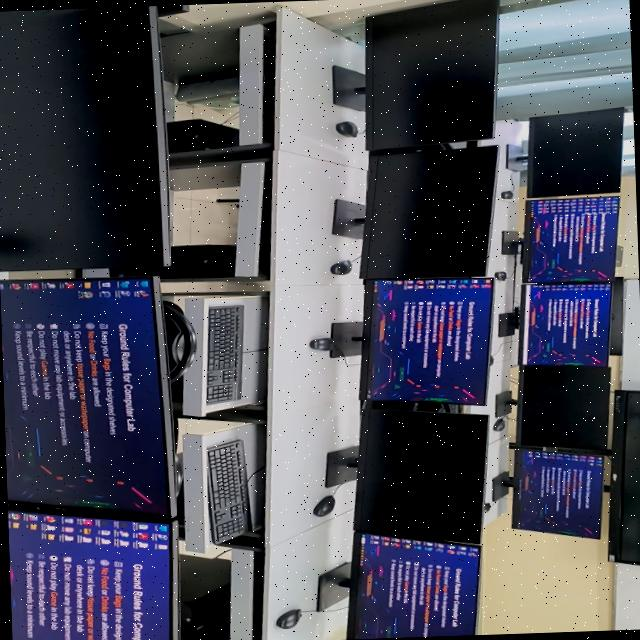Chair: (371, 400, 460, 412)
Cpu: (108, 244, 234, 278), (179, 584, 228, 634), (167, 119, 237, 152), (615, 245, 623, 266)
Digital board: (603, 389, 640, 565)
Keyboard: (206, 439, 249, 543), (205, 305, 243, 404)
Monitor: (0, 6, 168, 271), (0, 277, 174, 517), (331, 0, 497, 150), (325, 408, 486, 544), (332, 146, 496, 279), (7, 512, 174, 640), (330, 277, 493, 405), (317, 532, 480, 639), (504, 107, 623, 197), (501, 196, 620, 282), (491, 449, 604, 538), (495, 364, 609, 449), (498, 283, 610, 365), (609, 277, 625, 355), (156, 4, 188, 16)
Mouse: (275, 609, 300, 628), (312, 495, 334, 516), (335, 121, 357, 137), (308, 338, 334, 350), (329, 260, 351, 274), (492, 418, 505, 431), (493, 271, 507, 280), (500, 191, 512, 198), (483, 503, 490, 511), (489, 356, 493, 366)
